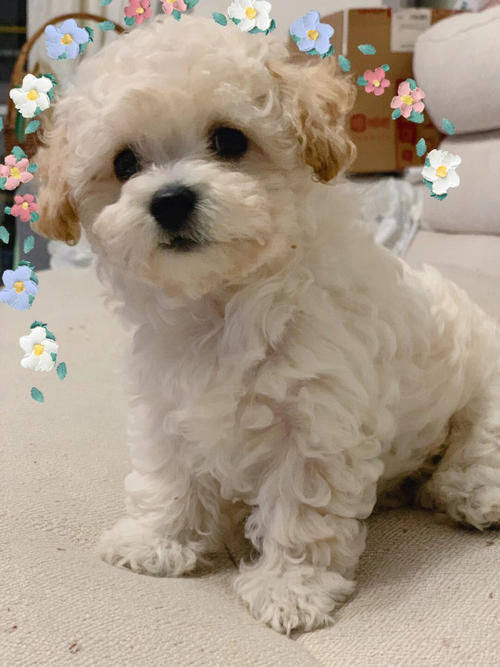dog: (18, 12, 384, 300)
